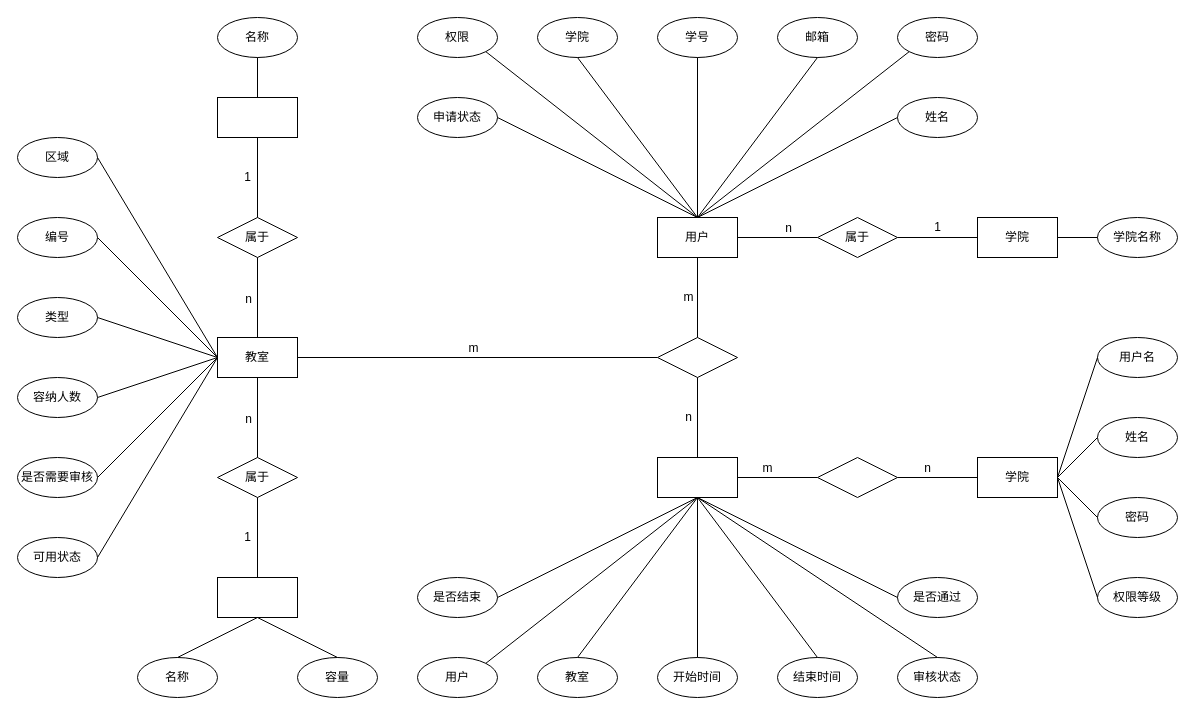
The diagram is 1195 pixels wide and 715 high, and some of its shapes have lost their labels. The shapes that lost their labels are listed below. From the top down, each one's centre as x and y in pixels, then its label:
At point 257,117: "教学区域".
At point 697,357: "记录".
At point 697,477: "申请记录".
At point 857,477: "审核".
At point 257,597: "教室类型".
